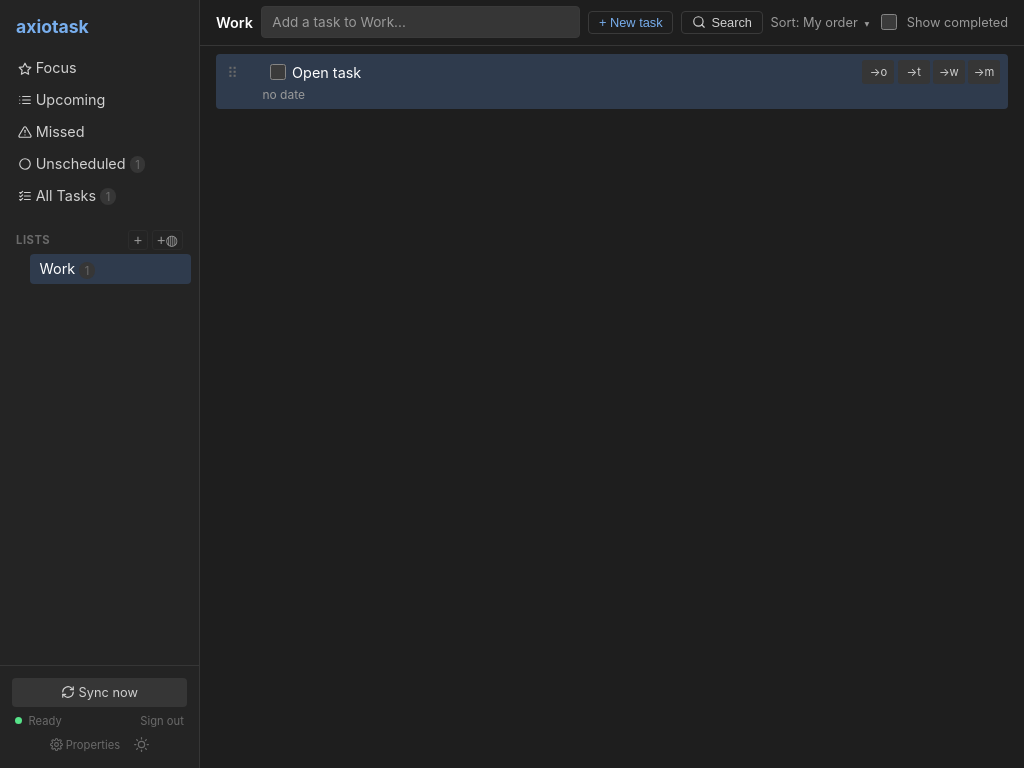
Test: GH#31: Clear completed tasks › Button visibility › Clear completed button appears when showCompleted is on and viewing a list
The image size is (1024, 768).
Expected: the text "Open task" is shown, [292,64,361,81]
Toggle show completed
Click the checkbox labelled "Show completed" at (889, 22), box [881,14,897,30]
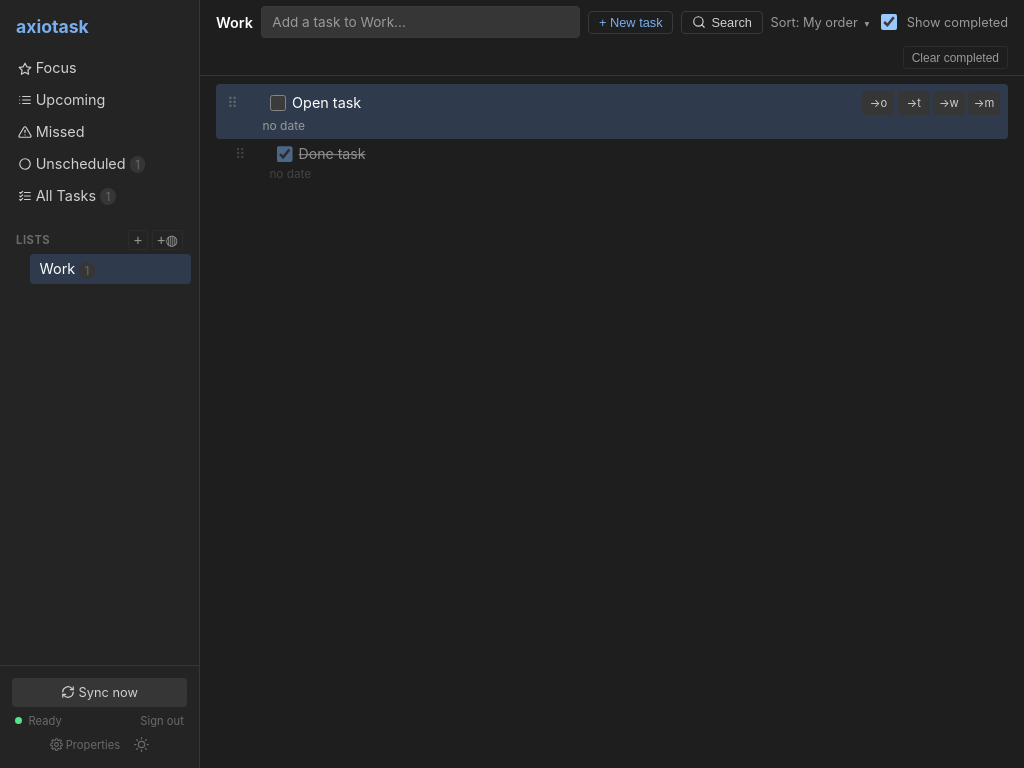
Result: the text "Done task" is shown at [298,146,365,163]
Result: the button "Clear completed" is shown at [903,46,1008,69]
